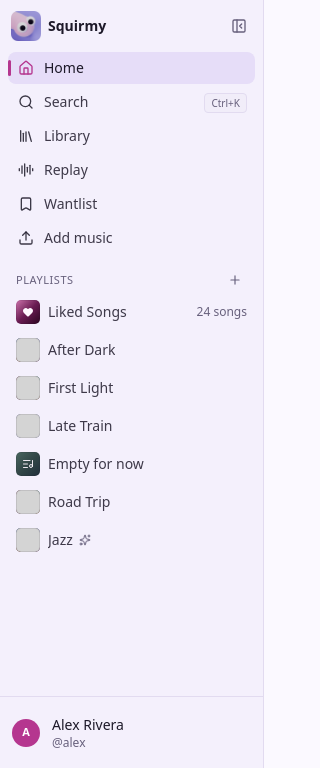
Test: Sidebar › account menu › offers Settings, Your uploads, Admin panel and Log out to an admin
Click the button with aria-label "Account, Alex Rivera" at (132, 732), box 8,712 -> 255,752
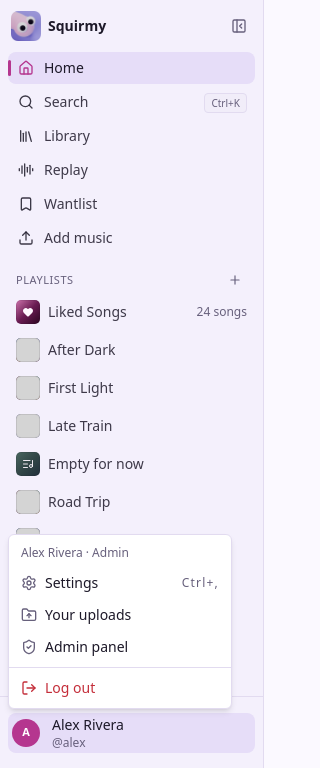
Now the menu item "Settings Ctrl+," is shown, box 21,573 -> 219,592
Now the text "Alex Rivera · Admin" is shown, box 21,544 -> 129,561
